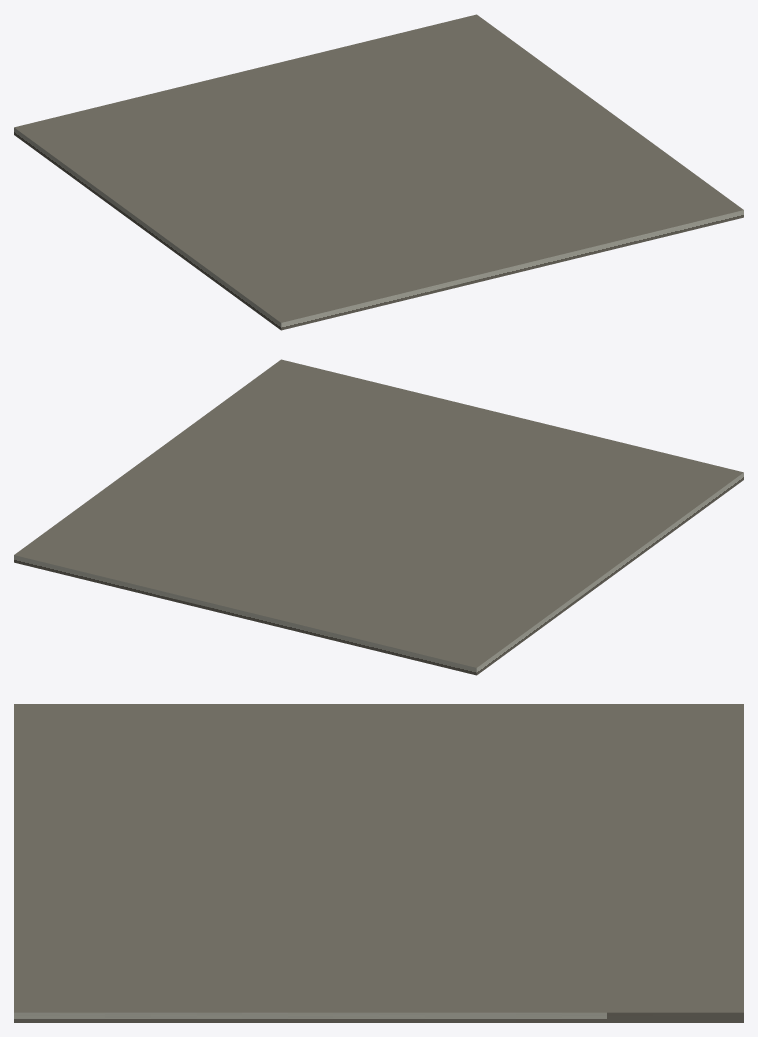
File: ceiling_3b.glb
The picture shows the model from 3 angles, top to bottom: view 1: azimuth 30°, elevation 25°; view 2: azimuth 150°, elevation 25°; view 3: azimuth 270°, elevation 25°; orthographic projection. The views are drawn at different scales.
Visible parts, largest first — view 1: ceiling_edge; view 2: ceiling_edge; view 3: ceiling_edge.
Boxes of the visible parts, box(x1,y1,x2,y2) form: ceiling_edge: box(14, 14, 743, 330); ceiling_edge: box(14, 359, 743, 675); ceiling_edge: box(14, 704, 743, 1022).
Size of the model in its own units: 2 by 0.05 by 2.
1 material, 1 textured.
